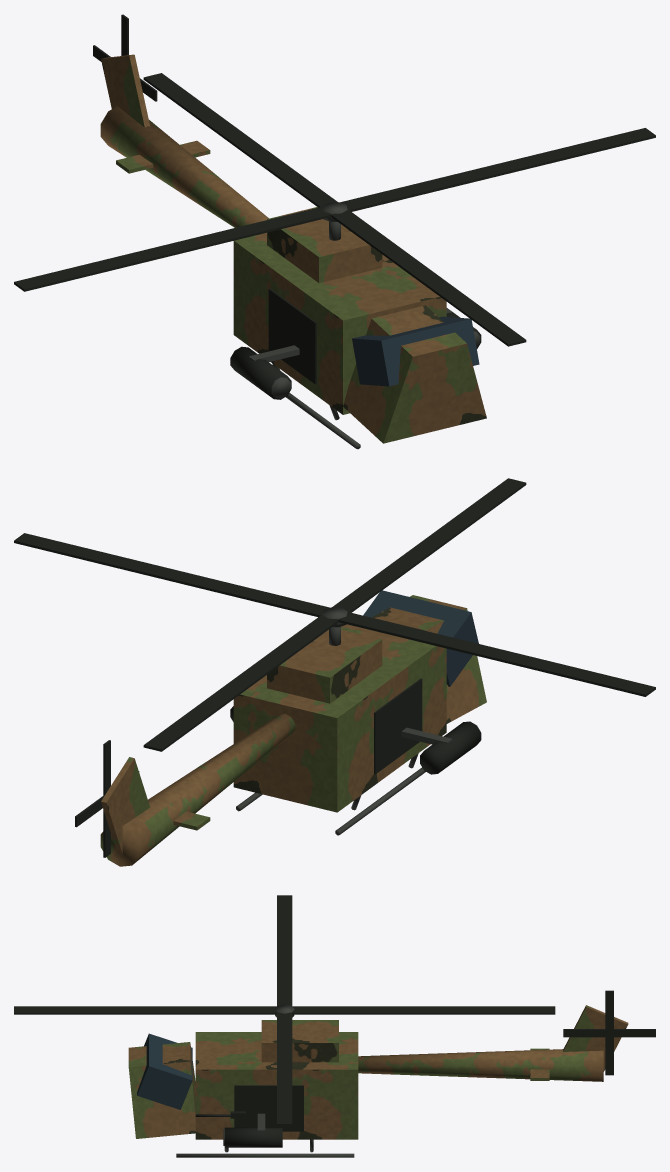
The model's file is gunship.glb.
The picture shows the model from 3 angles, top to bottom: view 1: azimuth 30°, elevation 25°; view 2: azimuth 150°, elevation 25°; view 3: azimuth 270°, elevation 25°; orthographic projection. The views are drawn at different scales.
Visible parts, largest first — view 1: Body, Rotor, Pods, TailRotor; view 2: Body, Rotor, Pods, TailRotor; view 3: Body, Rotor, Pods, TailRotor.
Boxes of the visible parts, box(x1,y1,x2,y2) form: Body: box(100, 54, 486, 449); Rotor: box(14, 73, 655, 346); Pods: box(230, 308, 481, 399); TailRotor: box(93, 14, 157, 101); Body: box(100, 590, 486, 866); Rotor: box(14, 478, 655, 751); Pods: box(230, 706, 481, 774); TailRotor: box(75, 740, 139, 857); Body: box(128, 1005, 628, 1157); Rotor: box(14, 895, 555, 1125); Pods: box(195, 1111, 282, 1147); TailRotor: box(563, 990, 655, 1075).
Bounding box in the file's own units: 14 × 4.34 × 16.6.
Materials: 4 (1 with a texture image).
